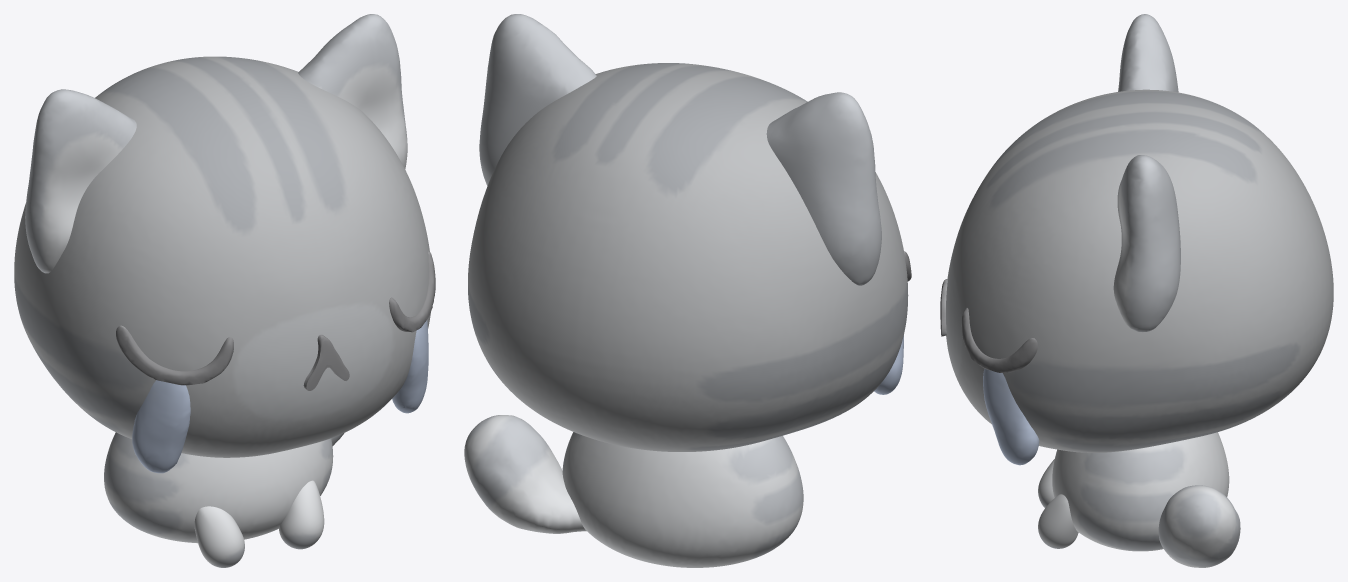
File: cute_cat.glb
3 views of the same model, side by side, from view 1: azimuth 30°, elevation 25°; view 2: azimuth 150°, elevation 25°; view 3: azimuth 270°, elevation 25° (orthographic). The views are drawn at different scales.
Parts seen in each view (by area): view 1: Object_11, Object_3, Object_17, Object_5, Object_15, Object_7, Object_9; view 2: Object_11, Object_17, Object_3, Object_13, Object_5; view 3: Object_11, Object_3, Object_17, Object_13, Object_5, Object_15, Object_7.
Boxes of the visible parts, <box> form: Object_11: <box>14,56,430,457</box>; Object_3: <box>25,14,407,273</box>; Object_17: <box>104,432,333,543</box>; Object_5: <box>132,320,428,473</box>; Object_15: <box>194,480,324,567</box>; Object_7: <box>116,251,435,385</box>; Object_9: <box>303,334,349,390</box>; Object_11: <box>468,63,908,451</box>; Object_17: <box>562,432,803,567</box>; Object_3: <box>479,14,881,285</box>; Object_13: <box>464,415,586,533</box>; Object_5: <box>874,335,903,394</box>; Object_11: <box>946,89,1333,452</box>; Object_3: <box>1113,14,1180,332</box>; Object_17: <box>1052,432,1229,551</box>; Object_13: <box>1158,485,1240,567</box>; Object_5: <box>983,368,1039,465</box>; Object_15: <box>1038,459,1078,548</box>; Object_7: <box>961,308,1037,372</box>.
Size of the model in its own units: 3.26 by 3.94 by 3.16.
